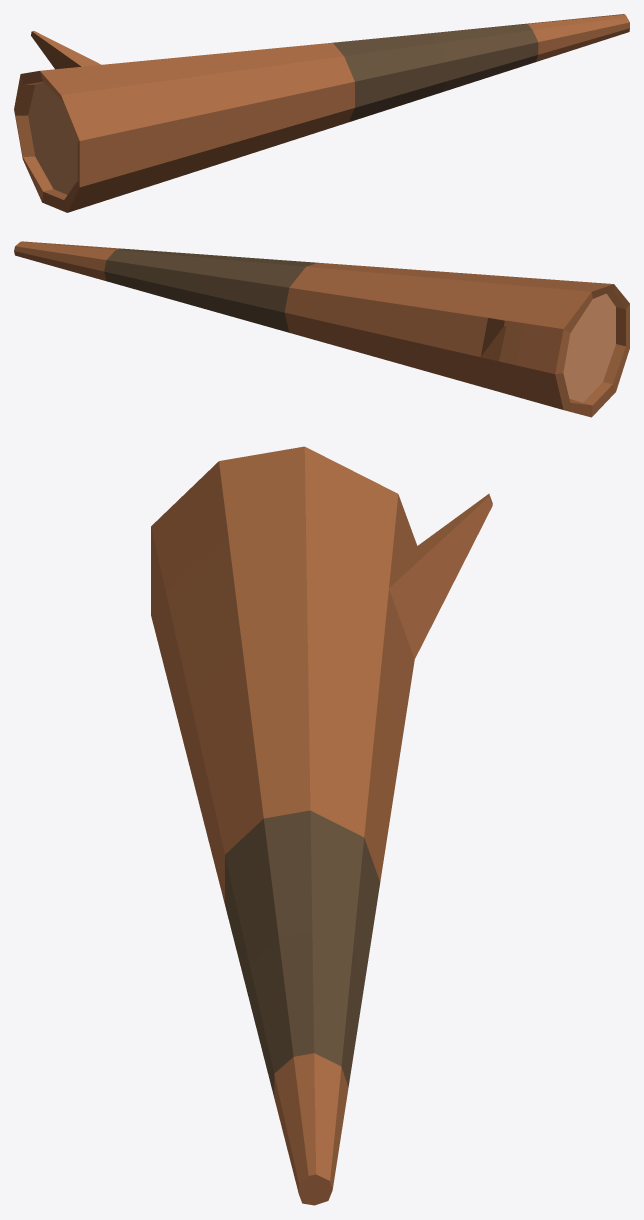
File: Torch.fbx
The picture shows the model from 3 angles, top to bottom: view 1: azimuth 30°, elevation 25°; view 2: azimuth 150°, elevation 25°; view 3: azimuth 270°, elevation 25°; orthographic projection. The views are drawn at different scales.
Visible parts, largest first — view 1: Cylinder; view 2: Cylinder; view 3: Cylinder.
Boxes of the visible parts, x1,y1,x2,y2 form: Cylinder: [14, 14, 629, 212]; Cylinder: [14, 241, 629, 417]; Cylinder: [151, 446, 492, 1205].
Bounding box in the file's own units: 913 × 194 × 236.
